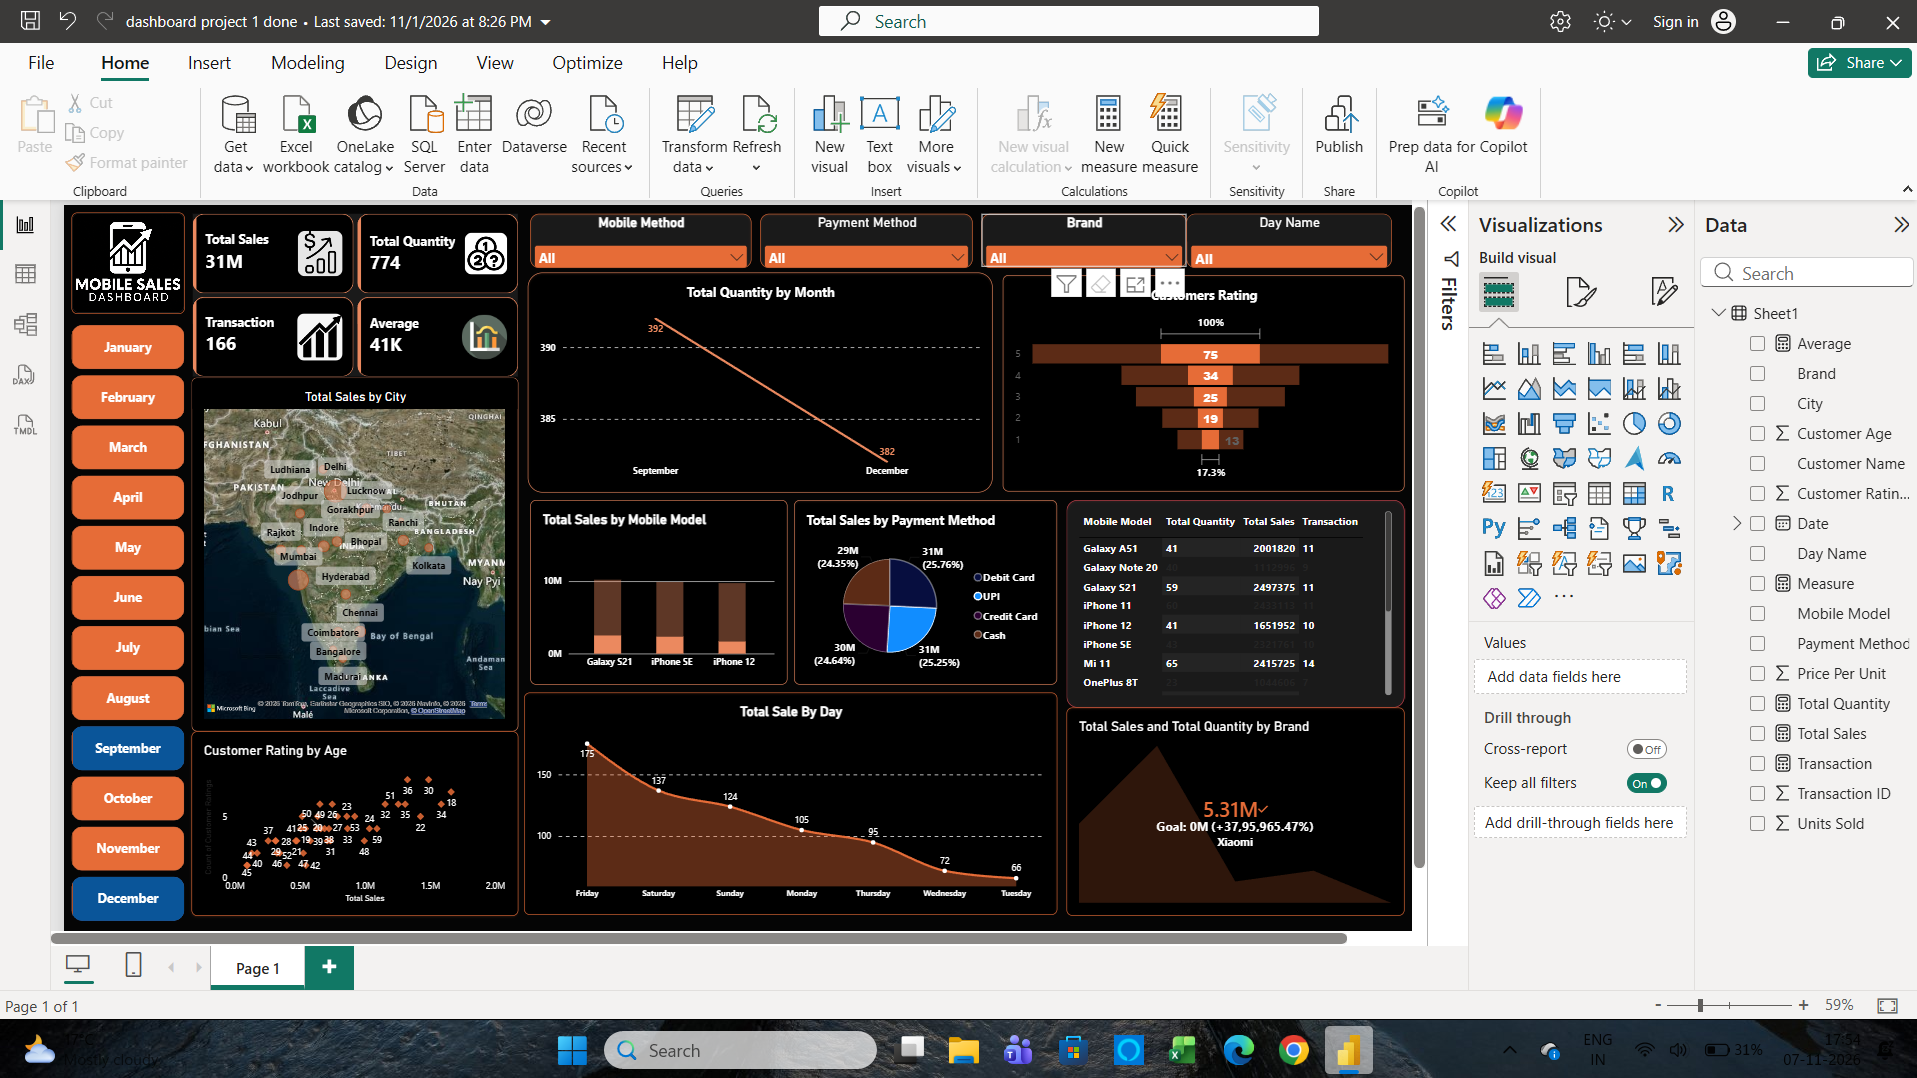

This screenshot's page, from the dashboard's own definition file:
{"tool":"powerbi","page":{"name":"Page 1","canvas":[1920,1080],"ordinal":0},"visuals":[{"type":"image","box":[10.9,10.9,153.8,137.5],"z":0},{"type":"advancedSlicerVisual","fields":{"Values":["Sheet1.Date.Variation.Date Hierarchy.Month"]},"box":[10.9,162.9,153.3,815],"z":1000},{"type":"cardVisual","fields":{"Data":["Sheet1.Total Sales","Sheet1.Total Quantity","Sheet1.Transaction","Sheet1.Average"]},"box":[174.3,11.4,442.9,222.9],"z":2000},{"type":"map","fields":{"Category":["Sheet1.City"],"Size":["Sheet1.Total Sales"]},"box":[173.3,233.3,443.3,480],"z":3000},{"type":"lineChart","fields":{"Category":["Sheet1.Date.Variation.Date Hierarchy.Month","Sheet1.Date.Variation.Date Hierarchy.Day"],"Y":["Sheet1.Total Quantity"]},"box":[628.3,91.7,630,298.6],"z":4000},{"type":"clusteredColumnChart","fields":{"Category":["Sheet1.Mobile Model"],"Y":["Sheet1.Total Sales"]},"box":[631.7,400,348.6,250],"z":5000},{"type":"pieChart","fields":{"Category":["Sheet1.Payment Method"],"Y":["Sheet1.Total Sales"]},"box":[990,400,357.1,250],"z":6000},{"type":"funnel","title":"Customers Rating","fields":{"Category":["Sheet1.Customer Ratings"],"Y":["CountNonNull(Sheet1.Customer Ratings)"]},"box":[1273.3,95,545,293.3],"z":7000},{"type":"areaChart","title":"Total Sale By Day","fields":{"Category":["Sheet1.Day Name"],"Y":["Sheet1.Total Quantity"]},"box":[623.3,661.7,723.3,301.7],"z":8000},{"type":"tableEx","fields":{"Values":["Sheet1.Mobile Model","Sheet1.Total Quantity","Sheet1.Total Sales","Sheet1.Transaction"]},"box":[1360,400,458.3,281.7],"z":9000},{"type":"slicer","title":"Mobile Method","fields":{"Values":["Sheet1.Mobile Model"]},"box":[631.7,11.7,300,73.3],"z":10000},{"type":"slicer","title":"Payment Method","fields":{"Values":["Sheet1.Payment Method"]},"box":[943.3,11.7,288.3,73.3],"z":11000},{"type":"slicer","title":"Brand","fields":{"Values":["Sheet1.Brand"]},"box":[1243.3,11.7,278.3,73.3],"z":12000},{"type":"slicer","title":"Day Name","fields":{"Values":["Sheet1.City"]},"box":[1521.7,11.7,278.3,73.3],"z":13000},{"type":"kpi","fields":{"Goal":["Sheet1.Total Quantity"],"Indicator":["Sheet1.Total Sales"],"TrendLine":["Sheet1.Brand"]},"box":[1360,682,458,282],"z":13001},{"type":"scatterChart","title":"Customer Rating by Age ","fields":{"Category":["Sheet1.Customer Age"],"X":["Sheet1.Total Sales"],"Y":["CountNonNull(Sheet1.Customer Ratings)"]},"box":[173,713,443,250],"z":13002}]}

Visuals, with their boxes on the page's 1920x1080 design canvas (x1, y1, x2, y2). These are canvas units, not pixel positions in the 1917x1078 screenshot, which may show the page scaled, cropped or inside an application window:
image: (left=11, top=11, right=165, bottom=148)
advancedSlicerVisual - Sheet1.Date.Variation.Date Hierarchy.Month: (left=11, top=163, right=164, bottom=978)
cardVisual - Sheet1.Total Sales x Sheet1.Total Quantity: (left=174, top=11, right=617, bottom=234)
map - Sheet1.City x Sheet1.Total Sales: (left=173, top=233, right=617, bottom=713)
lineChart - Sheet1.Date.Variation.Date Hierarchy.Month x Sheet1.Date.Variation.Date Hierarchy.Day: (left=628, top=92, right=1258, bottom=390)
clusteredColumnChart - Sheet1.Mobile Model x Sheet1.Total Sales: (left=632, top=400, right=980, bottom=650)
pieChart - Sheet1.Payment Method x Sheet1.Total Sales: (left=990, top=400, right=1347, bottom=650)
"Customers Rating" funnel: (left=1273, top=95, right=1818, bottom=388)
"Total Sale By Day" areaChart: (left=623, top=662, right=1347, bottom=963)
tableEx - Sheet1.Mobile Model x Sheet1.Total Quantity: (left=1360, top=400, right=1818, bottom=682)
"Mobile Method" slicer: (left=632, top=12, right=932, bottom=85)
"Payment Method" slicer: (left=943, top=12, right=1232, bottom=85)
"Brand" slicer: (left=1243, top=12, right=1522, bottom=85)
"Day Name" slicer: (left=1522, top=12, right=1800, bottom=85)
kpi - Sheet1.Total Quantity x Sheet1.Total Sales: (left=1360, top=682, right=1818, bottom=964)
"Customer Rating by Age " scatterChart: (left=173, top=713, right=616, bottom=963)
